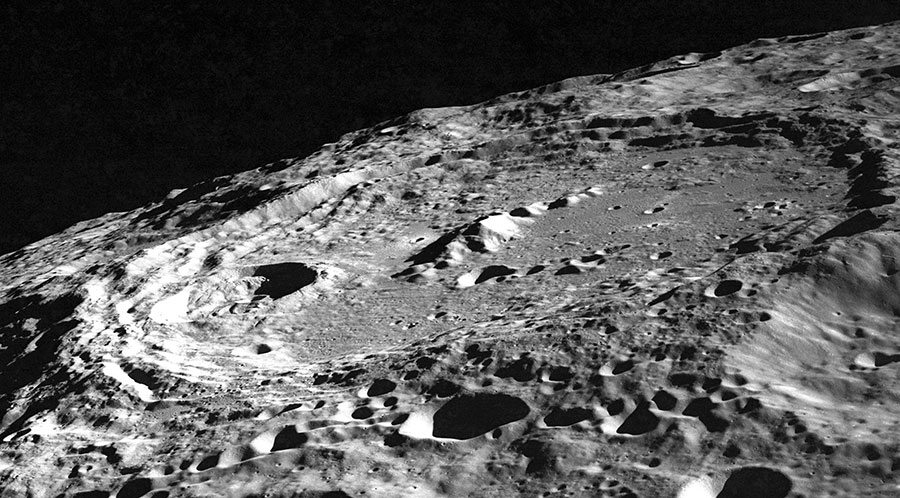crater: (139, 250, 366, 345), (693, 269, 787, 308), (635, 192, 714, 225)
